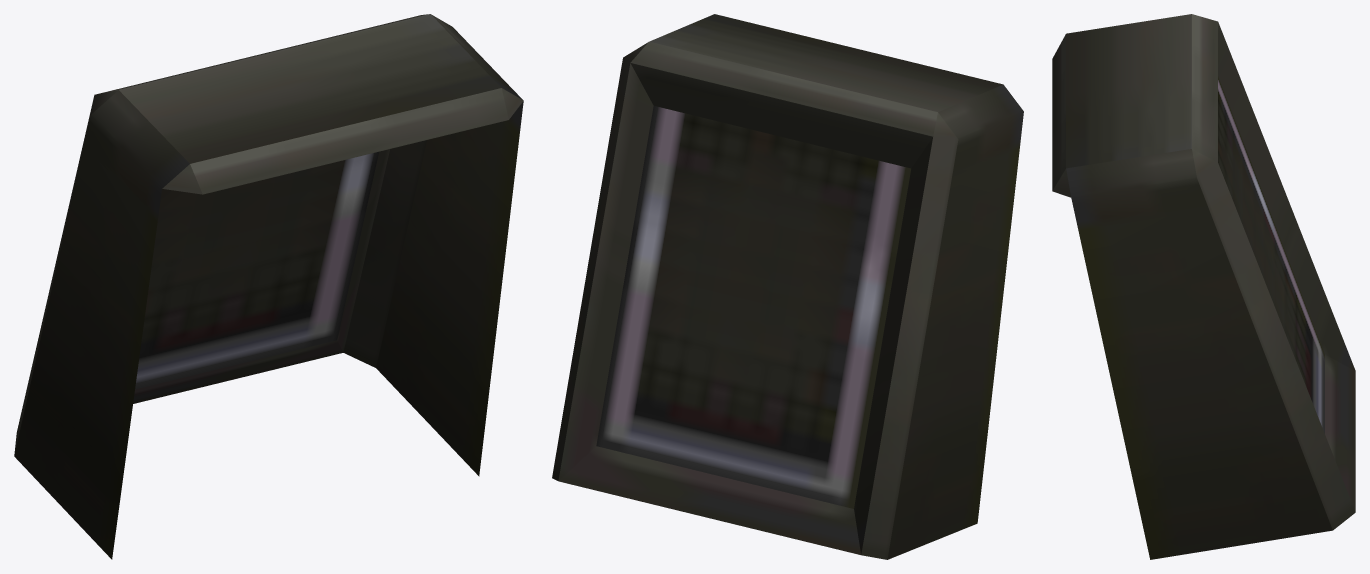
Rendered from obj_speaker (merge).fbx.
The picture shows the model from 3 angles, left to right: view 1: azimuth 30°, elevation 25°; view 2: azimuth 150°, elevation 25°; view 3: azimuth 270°, elevation 25°; orthographic projection. The views are drawn at different scales.
Visible parts, largest first — view 1: obj_speaker; view 2: obj_speaker; view 3: obj_speaker.
Boxes of the visible parts, <box> form: obj_speaker: <box>14,14,523,559</box>; obj_speaker: <box>552,14,1023,559</box>; obj_speaker: <box>1052,14,1355,559</box>.
Bounding box in the file's own units: 0.8141 × 0.9708 × 0.6674.
1 material, 1 textured.
